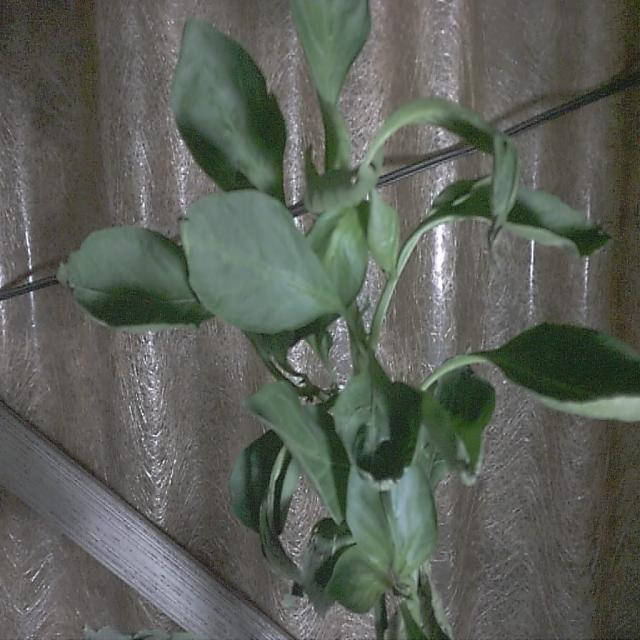Leaf: (178, 186, 338, 334), (168, 17, 284, 197), (56, 224, 215, 334), (496, 320, 640, 423), (329, 365, 426, 489)
